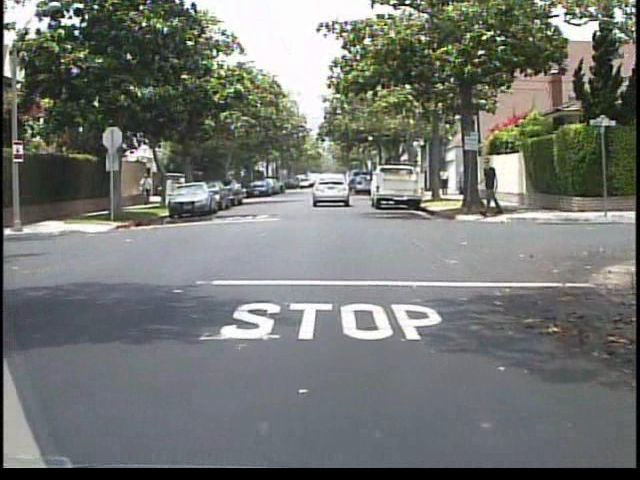person: (475, 155, 505, 218), (138, 173, 158, 207), (436, 162, 451, 200), (174, 173, 191, 204)
